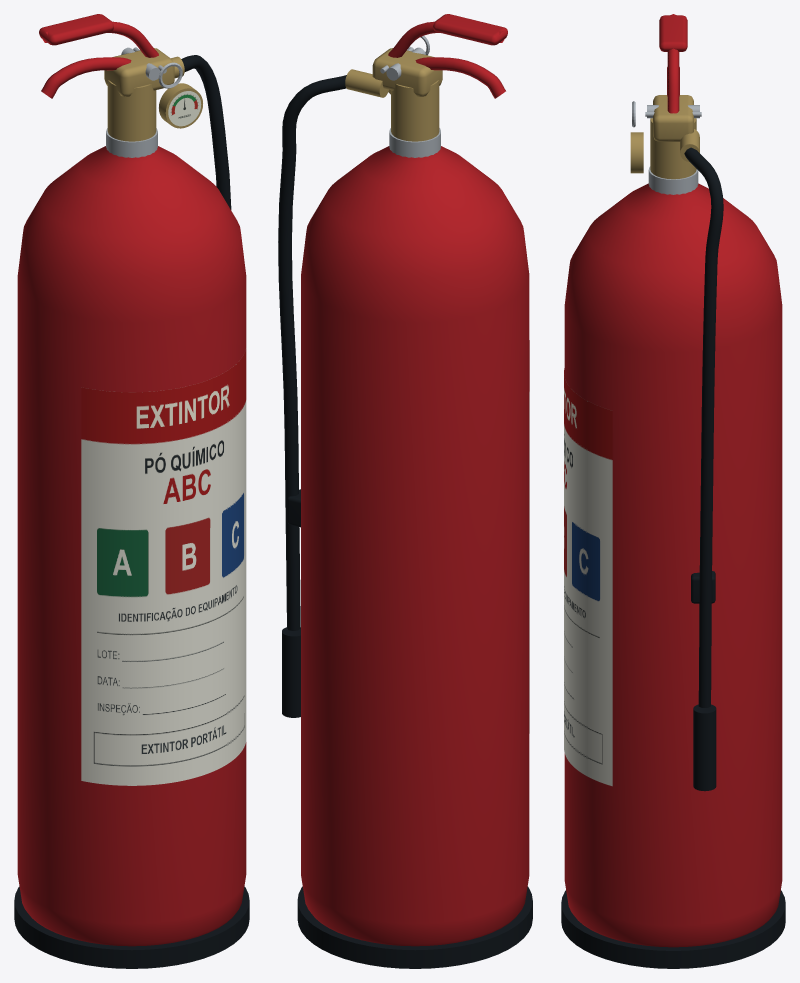
File: extintor_guarita.glb
3 views of the same model, side by side, from view 1: azimuth 30°, elevation 25°; view 2: azimuth 150°, elevation 25°; view 3: azimuth 270°, elevation 25° (orthographic). The views are drawn at different scales.
Visible parts, largest first — view 1: Cilindro vermelho arredondado, Identificacao do extintor, Anel de apoio inferior, Corpo da valvula, Mangueira lateral, Cabecote da valvula, Empunhadura superior, Alca de transporte, Escala do manometro, Gargalo rosqueado, Alavanca de acionamento, Corpo do manometro; view 2: Cilindro vermelho arredondado, Mangueira lateral, Anel de apoio inferior, Corpo da valvula, Cabecote da valvula, Bico de descarga, Empunhadura superior, Alca de transporte, Gargalo rosqueado, Conexao da mangueira, Alavanca de acionamento; view 3: Cilindro vermelho arredondado, Identificacao do extintor, Mangueira lateral, Anel de apoio inferior, Bico de descarga, Cabecote da valvula, Corpo da valvula, Empunhadura superior, Gargalo rosqueado, Alavanca de acionamento, Corpo do manometro.
Part boxes in pixels (x1,y1,x2,y2): Cilindro vermelho arredondado: (17,146,246,946); Identificacao do extintor: (81,348,246,785); Anel de apoio inferior: (14,886,249,968); Corpo da valvula: (107,80,156,141); Mangueira lateral: (181,55,231,209); Cabecote da valvula: (104,48,174,96); Empunhadura superior: (39,14,113,45); Alca de transporte: (41,57,131,98); Escala do manometro: (168,91,201,126); Gargalo rosqueado: (106,128,157,157); Alavanca de acionamento: (42,21,158,57); Corpo do manometro: (159,83,202,128); Cilindro vermelho arredondado: (301,146,529,946); Mangueira lateral: (278,75,346,630); Anel de apoio inferior: (297,886,532,968); Corpo da valvula: (391,80,439,141); Cabecote da valvula: (372,48,442,96); Bico de descarga: (282,627,300,717); Empunhadura superior: (433,14,507,45); Alca de transporte: (415,57,505,98); Gargalo rosqueado: (389,128,440,157); Conexao da mangueira: (345,69,388,97); Alavanca de acionamento: (388,21,504,57); Cilindro vermelho arredondado: (564,183,782,947); Identificacao do extintor: (564,368,612,786); Mangueira lateral: (684,147,723,707); Anel de apoio inferior: (561,890,785,968); Bico de descarga: (693,704,716,791); Cabecote da valvula: (653,95,693,141); Corpo da valvula: (650,118,696,179); Empunhadura superior: (659,15,687,51); Gargalo rosqueado: (648,166,698,194); Alavanca de acionamento: (667,14,679,113); Corpo do manometro: (630,132,643,173).
Size of the model in its own units: 0.1461 by 0.5795 by 0.136.
7 materials, 2 textured.
